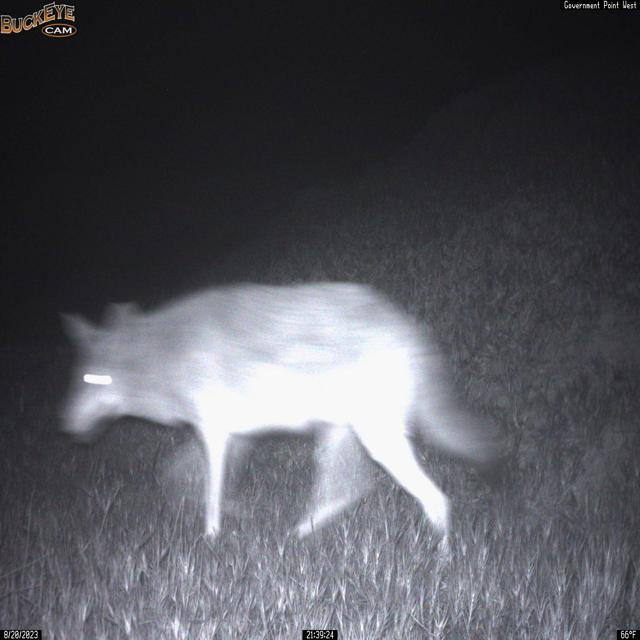coyote: (55, 278, 508, 570)
